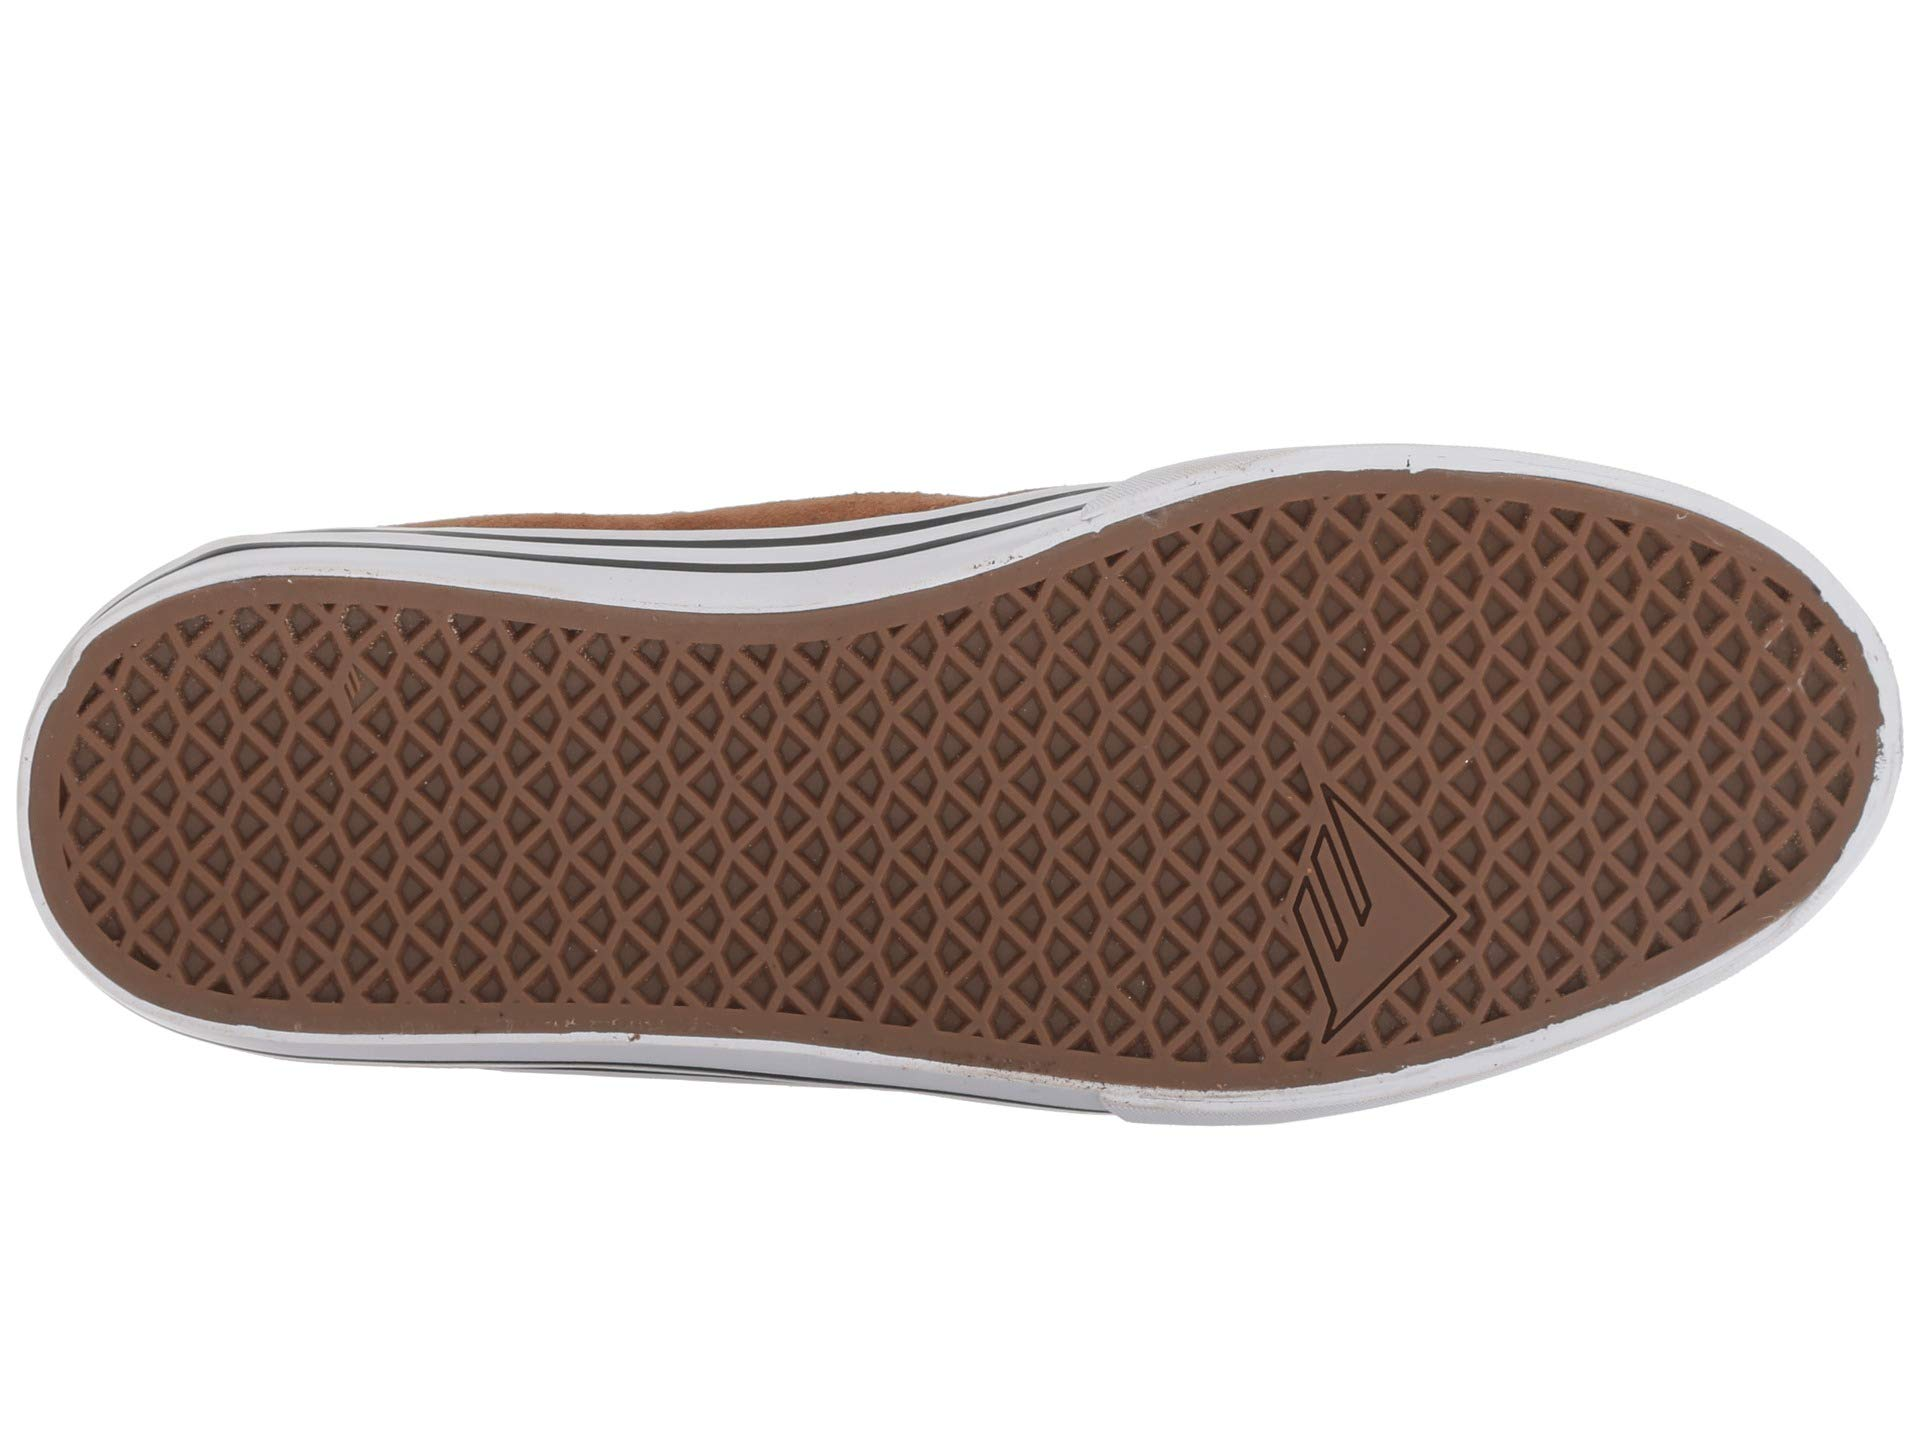triangle: (395, 661, 1105, 1042)
